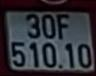.: (59, 64, 62, 68)
0: (42, 43, 57, 68), (78, 44, 91, 68), (42, 15, 55, 38)
1: (29, 42, 39, 67), (66, 43, 74, 69)
3: (25, 14, 40, 38)
5: (11, 42, 26, 67)
F: (57, 14, 71, 39)
